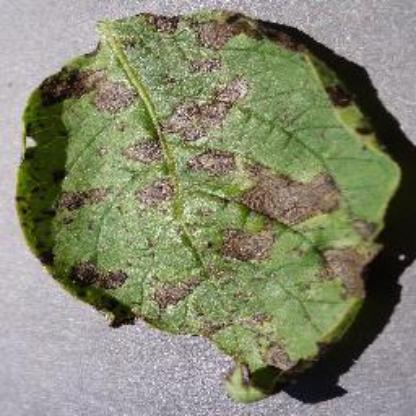Early-Blight: (13, 7, 402, 400)
